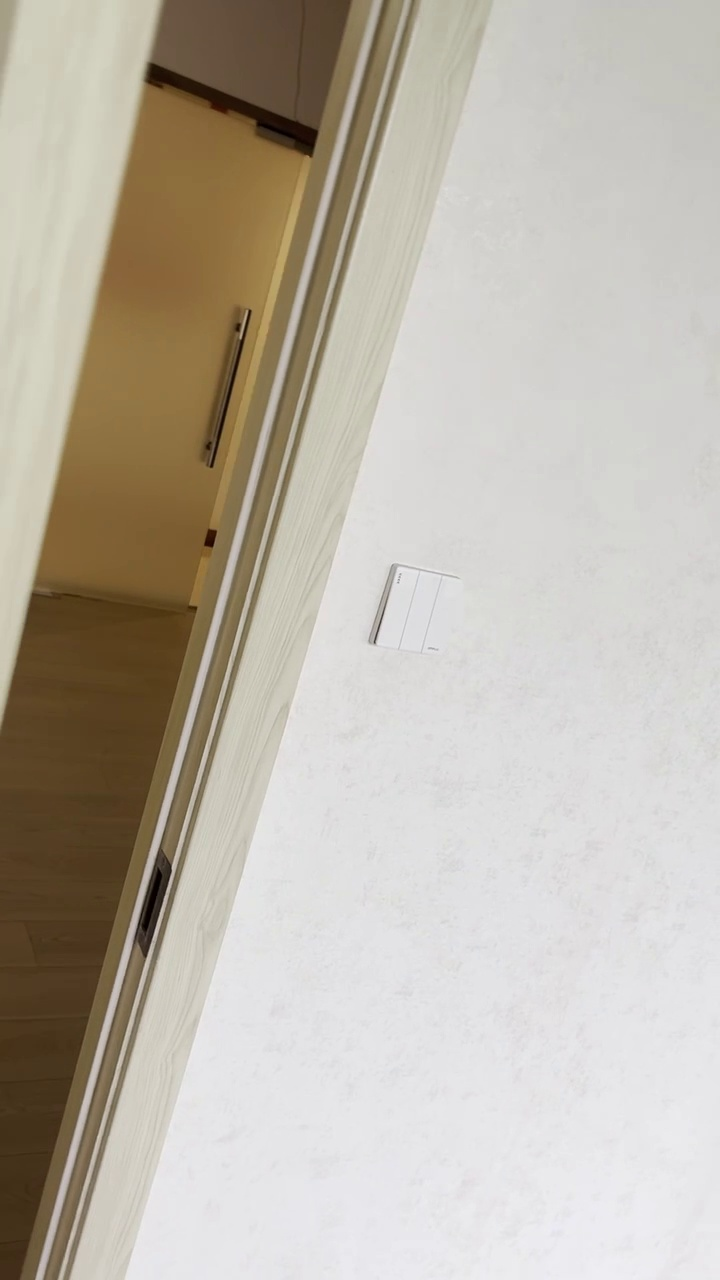button: (367, 563, 466, 656)
